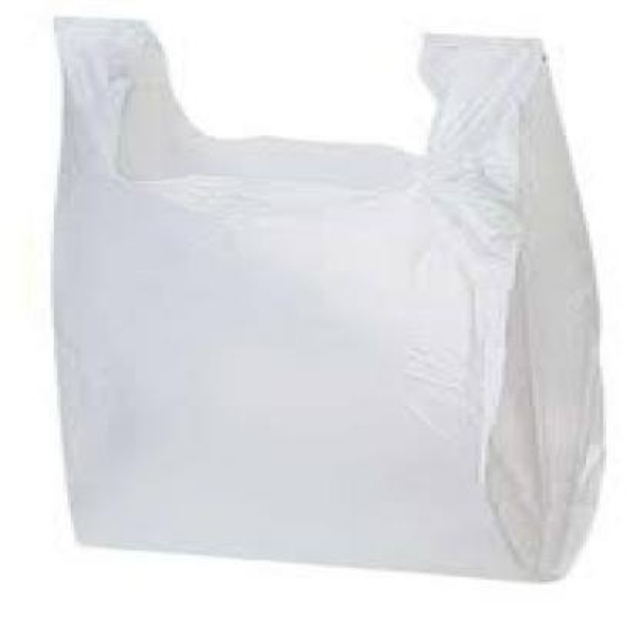trash: (54, 18, 602, 578)
